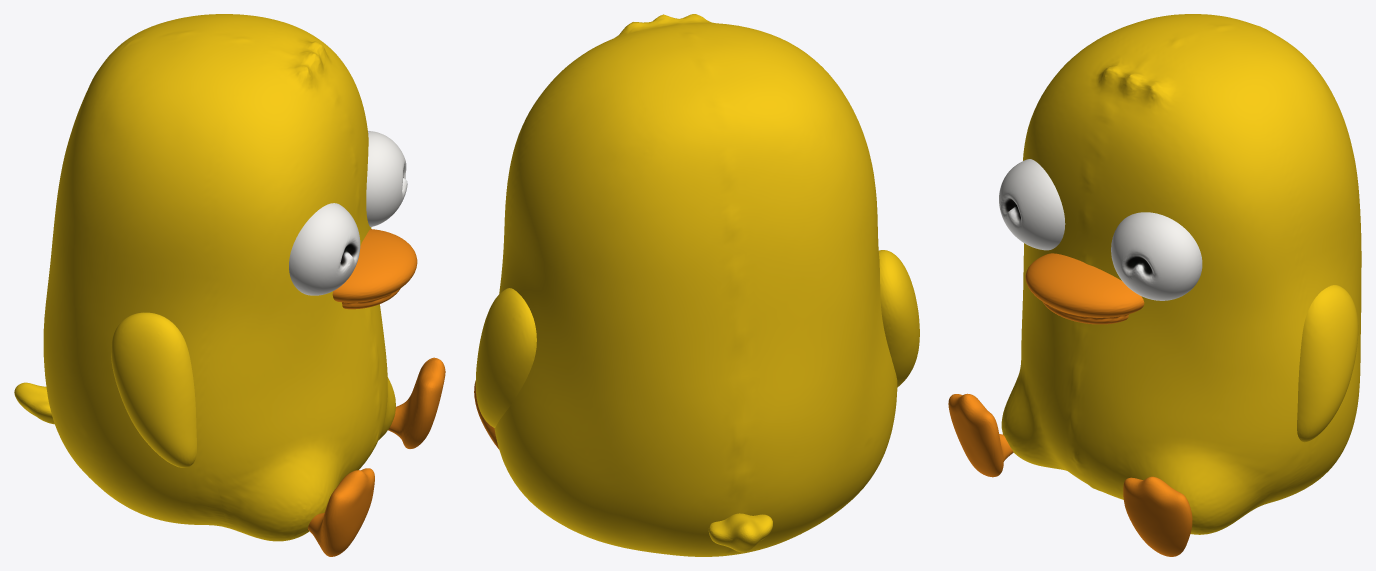
File: duckymomo.glb
3 views of the same model, side by side, from view 1: azimuth 30°, elevation 25°; view 2: azimuth 150°, elevation 25°; view 3: azimuth 270°, elevation 25° (orthographic). The views are drawn at different scales.
Visible parts, largest first — view 1: BeakLow_Beak_Feet_0; view 2: BeakLow_Beak_Feet_0; view 3: BeakLow_Beak_Feet_0.
Part boxes in pixels (x1,y1,x2,y2): BeakLow_Beak_Feet_0: (14,14,445,556); BeakLow_Beak_Feet_0: (474,14,919,556); BeakLow_Beak_Feet_0: (948,14,1361,556).
Bounding box in the file's own units: 0.1969 × 0.2328 × 0.1958.
3 materials, 3 textured.
